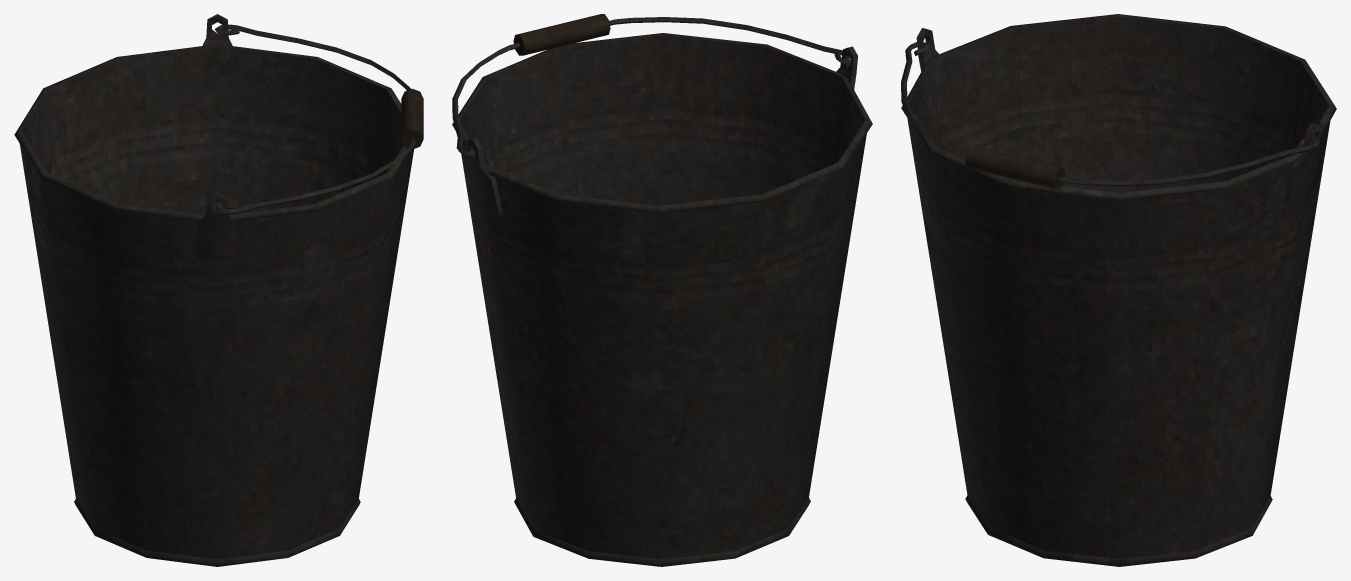
File: bucket_mx_2.glb
The picture shows the model from 3 angles, left to right: view 1: azimuth 30°, elevation 25°; view 2: azimuth 150°, elevation 25°; view 3: azimuth 270°, elevation 25°; orthographic projection. The views are drawn at different scales.
Visible parts, largest first — view 1: bucket_mx_2; view 2: bucket_mx_2; view 3: bucket_mx_2.
Boxes of the visible parts, x1,y1,x2,y2 form: bucket_mx_2: [14, 14, 423, 566]; bucket_mx_2: [452, 14, 872, 566]; bucket_mx_2: [901, 14, 1336, 566].
Bounding box in the file's own units: 0.4314 × 0.4651 × 0.43.
1 material, 1 textured.
